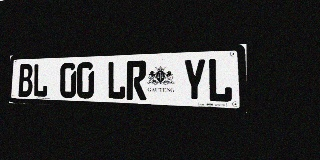0: (76, 62, 94, 99), (60, 62, 76, 98)
B: (18, 64, 33, 97)
L: (207, 58, 233, 103), (107, 61, 126, 100), (33, 63, 48, 98)
R: (126, 60, 147, 100)
Y: (183, 58, 206, 102)
